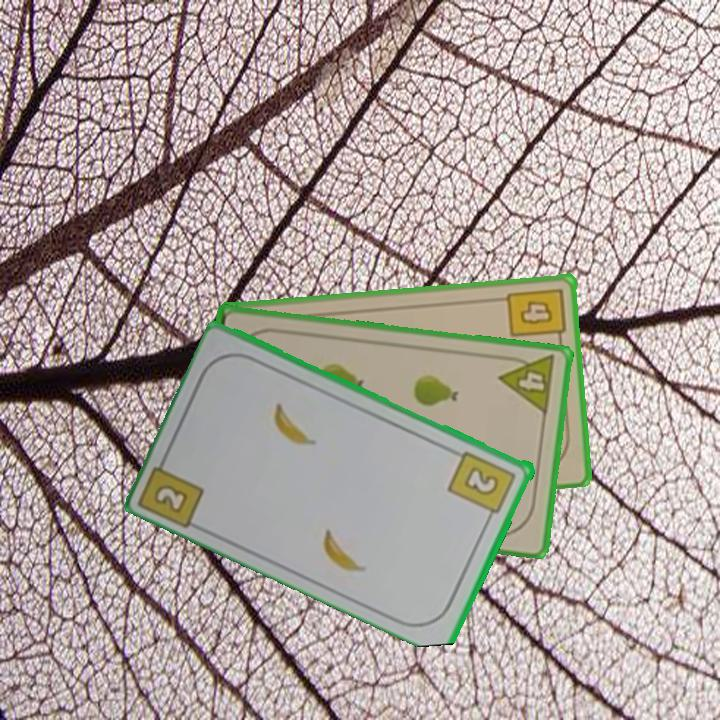2b: (445, 447, 519, 524), (150, 480, 192, 516)
4b: (503, 284, 568, 347)
4p: (496, 351, 558, 417)
